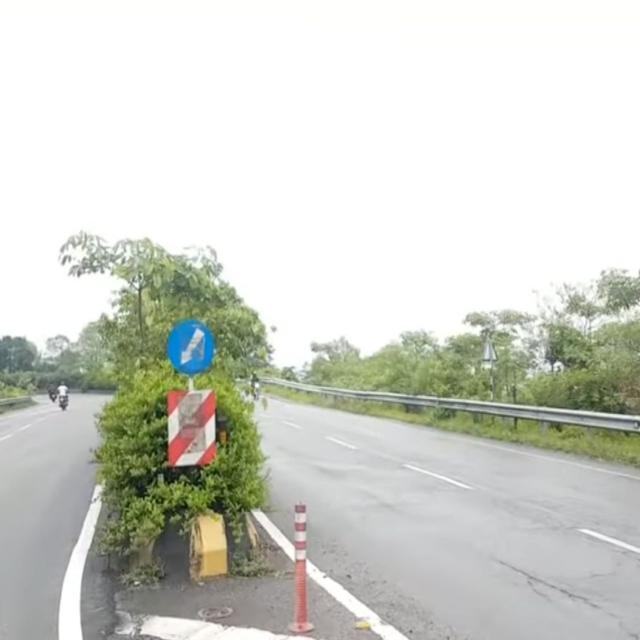compulsary keep left: (168, 319, 216, 378)
